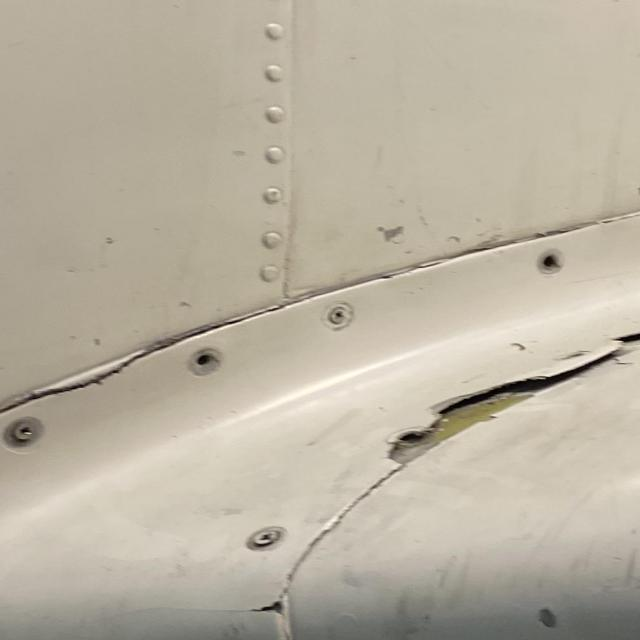Crack: (377, 370, 556, 474), (0, 318, 169, 407), (233, 601, 298, 618), (610, 320, 640, 352)
Missing_Fastener: (188, 346, 223, 376), (536, 248, 567, 275), (392, 428, 426, 444)
